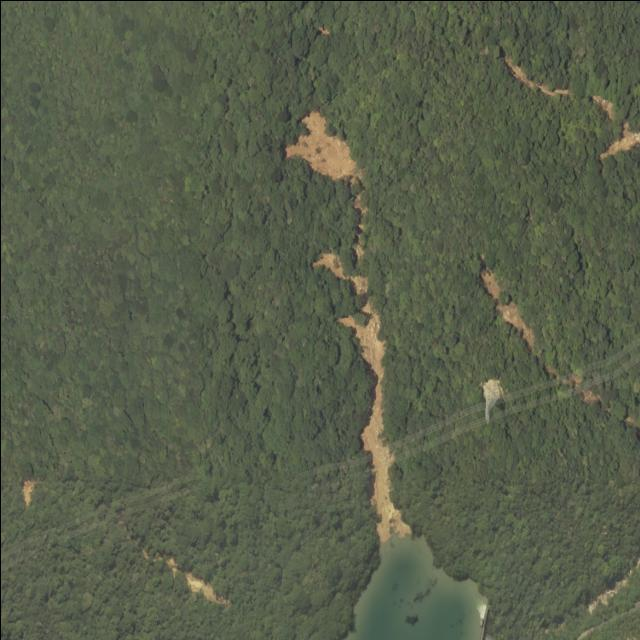landslide: (338, 300, 410, 543), (285, 110, 359, 180), (313, 252, 367, 295), (497, 300, 534, 348), (481, 267, 499, 299)
